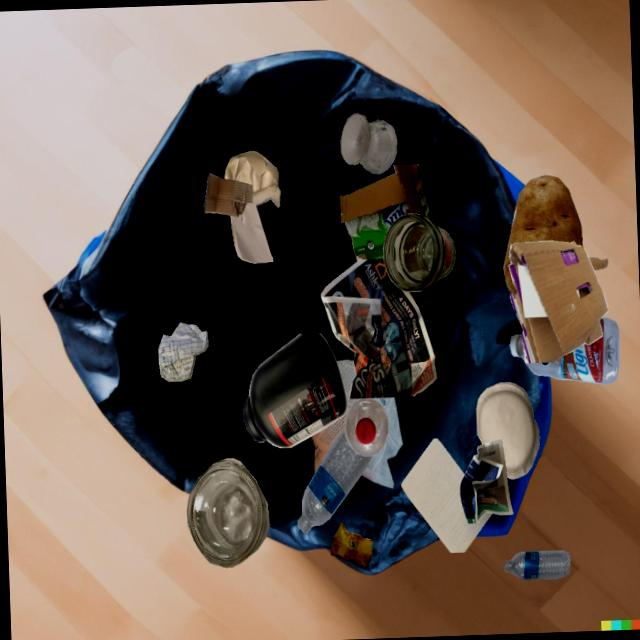biowaste: (503, 175, 582, 294), (330, 522, 373, 567)
cardboard: (508, 240, 608, 363), (339, 163, 435, 261), (203, 172, 252, 217), (588, 257, 608, 270)
glass: (186, 458, 269, 567), (383, 213, 455, 292), (340, 113, 397, 174)
paper: (321, 258, 437, 399), (401, 438, 492, 553), (224, 150, 280, 263), (476, 382, 539, 479), (311, 359, 361, 474), (460, 439, 513, 523), (361, 397, 403, 489), (158, 322, 208, 381)
plastic: (242, 333, 347, 448), (297, 428, 371, 533), (526, 317, 619, 384), (344, 398, 388, 456), (504, 550, 570, 579)
